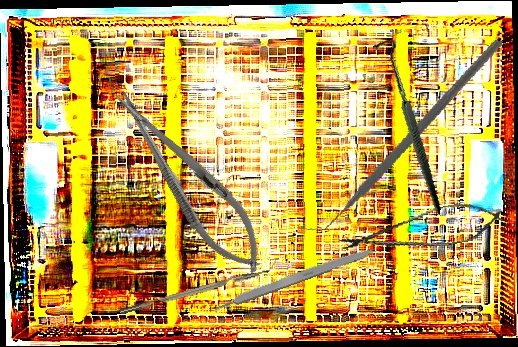Chopper: (301, 10, 503, 260), (117, 259, 280, 315)
Hook Surgical: (344, 36, 471, 215)
Micro Scissor: (334, 195, 510, 266)
Needle Holder: (98, 75, 281, 287)
Scalpel Handle: (212, 243, 377, 313)
